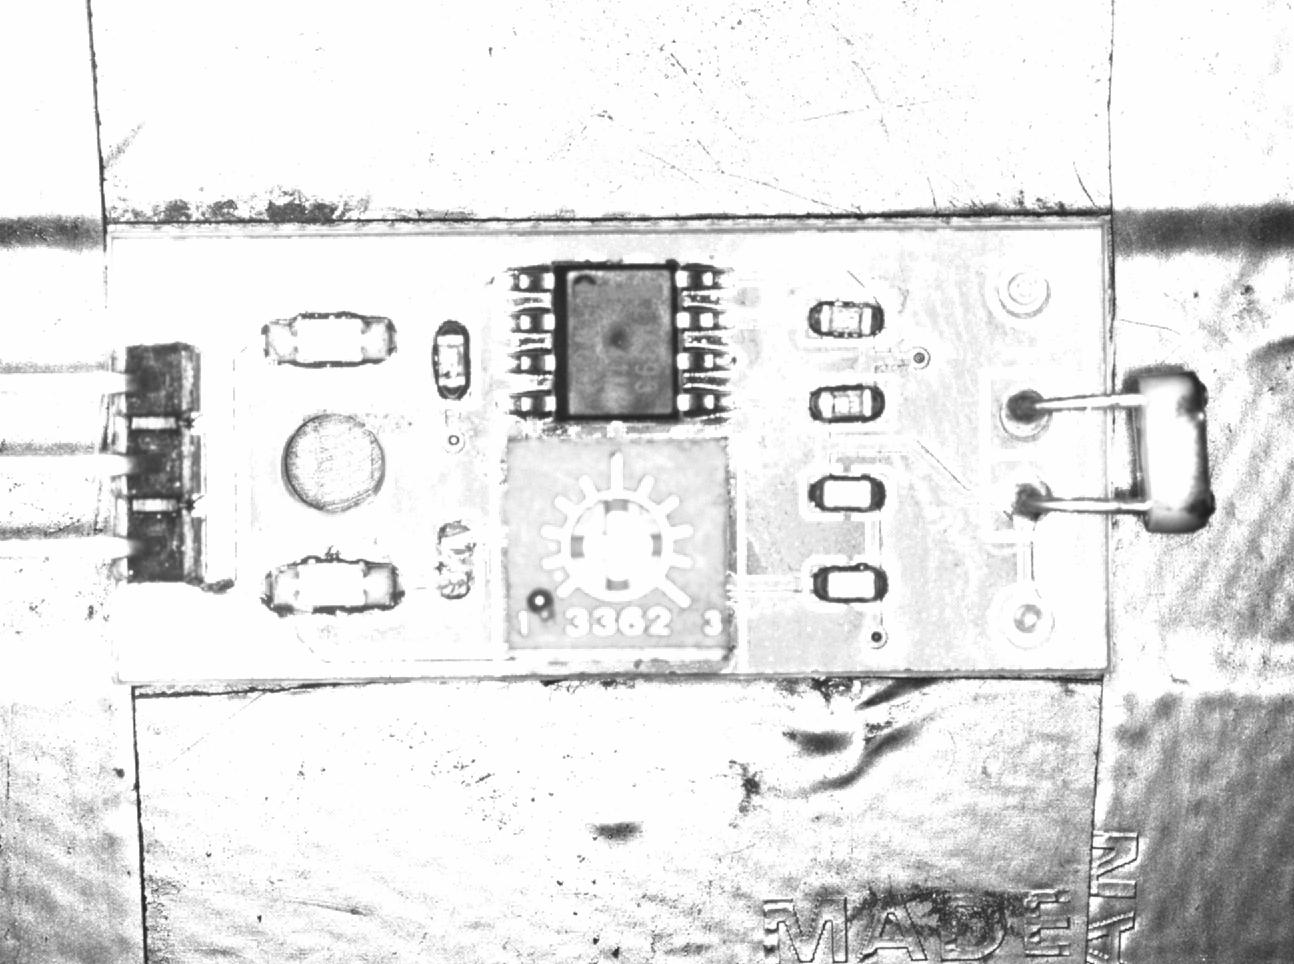miss: (426, 508, 483, 614)
ok: (795, 376, 899, 433), (795, 290, 896, 346), (423, 308, 479, 406), (801, 554, 898, 610), (801, 471, 896, 519)
